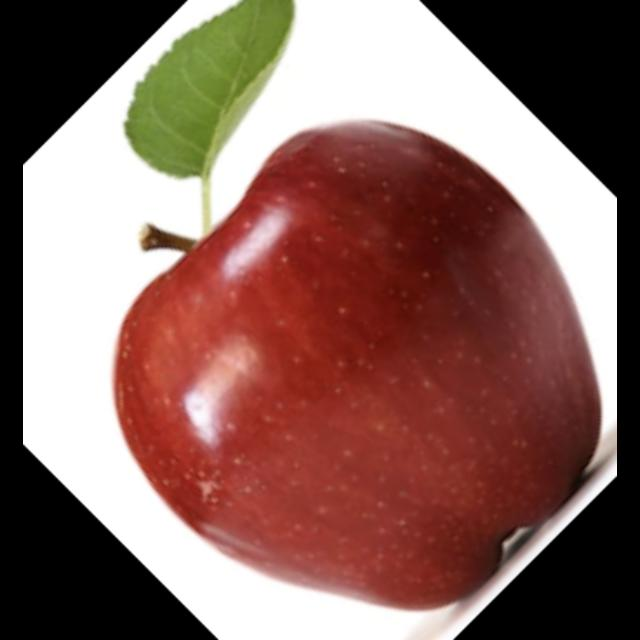Apel Segar: (104, 115, 610, 618)
